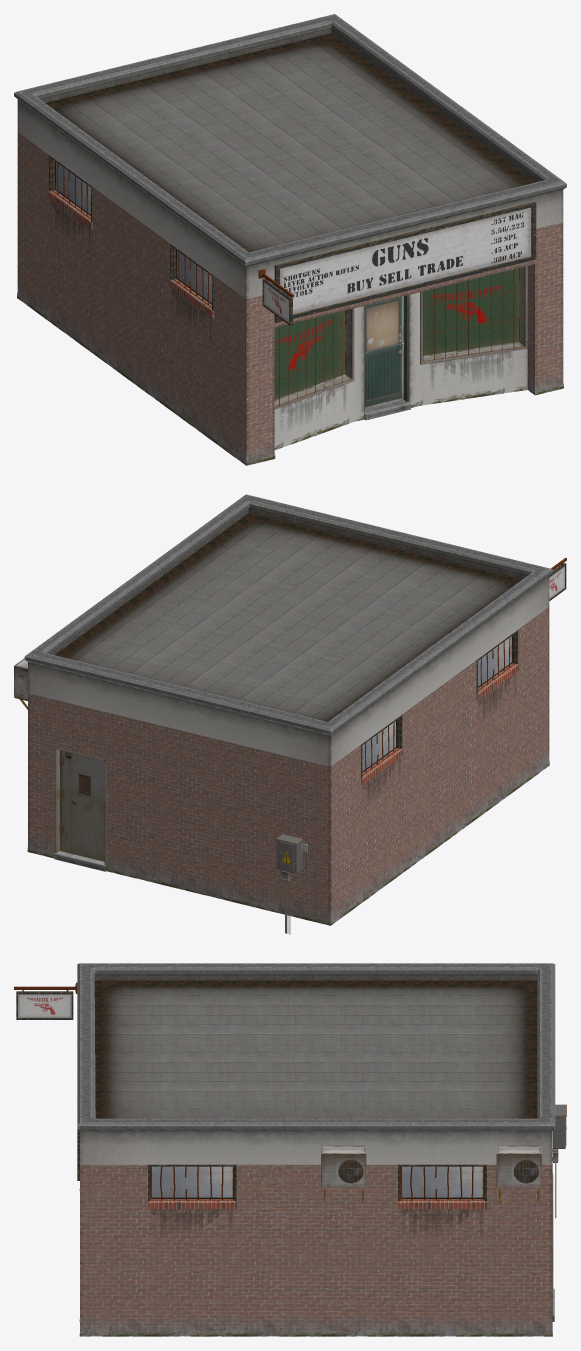
Rendered from gun-shop.glb.
3 renders of one model, top to bottom at view 1: azimuth 30°, elevation 25°; view 2: azimuth 150°, elevation 25°; view 3: azimuth 270°, elevation 25°, orthographic. The views are drawn at different scales.
Visible parts, largest first — view 1: gunStoreWall_gunStore_0, narrowWindow_windows_0, gunStoresign_gunStoresign_0, metalDoor_metalDoor_0, windowBars_rusty_0, decalMoss_mossy_0, decalLeaking_leakingMoss_0; view 2: gunStoreWall_gunStore_0, industrialDoor_industrialDoor_0, narrowWindow_windows_0, decalMoss_mossy_0, eletricBox-Low_eletricBox_0, windowBars_rusty_0, decalLeaking_leakingMoss_0, airconditioning.Low_air conditioning_0; view 3: gunStoreWall_gunStore_0, narrowWindow_windows_0, airconditioning.Low_air conditioning_0, decalMoss_mossy_0, gunStoresign_gunStoresign_0, decalLeaking_leakingMoss_0, windowBars_rusty_0, eletricBox-Low_eletricBox_0.
Boxes of the visible parts, x1,y1,x2,y2 form: gunStoreWall_gunStore_0: [14, 14, 566, 464]; narrowWindow_windows_0: [48, 155, 527, 409]; gunStoresign_gunStoresign_0: [262, 202, 536, 325]; metalDoor_metalDoor_0: [364, 295, 408, 412]; windowBars_rusty_0: [51, 159, 525, 407]; decalMoss_mossy_0: [17, 292, 563, 465]; decalLeaking_leakingMoss_0: [51, 201, 511, 424]; gunStoreWall_gunStore_0: [24, 494, 552, 924]; industrialDoor_industrialDoor_0: [55, 747, 106, 865]; narrowWindow_windows_0: [361, 630, 518, 785]; decalMoss_mossy_0: [27, 760, 549, 925]; eletricBox-Low_eletricBox_0: [276, 834, 307, 934]; windowBars_rusty_0: [362, 557, 566, 775]; decalLeaking_leakingMoss_0: [363, 673, 515, 798]; airconditioning.Low_air conditioning_0: [14, 658, 27, 709]; gunStoreWall_gunStore_0: [77, 963, 555, 1336]; narrowWindow_windows_0: [147, 1164, 486, 1209]; airconditioning.Low_air conditioning_0: [321, 1145, 541, 1203]; decalMoss_mossy_0: [79, 1173, 552, 1336]; gunStoresign_gunStoresign_0: [16, 991, 79, 1180]; decalLeaking_leakingMoss_0: [152, 1209, 482, 1230]; windowBars_rusty_0: [14, 982, 484, 1200]; eletricBox-Low_eletricBox_0: [552, 1104, 566, 1218].
Bounding box in the file's own units: 6 × 3.79 × 8.19.
Materials: 10 (10 with a texture image).
